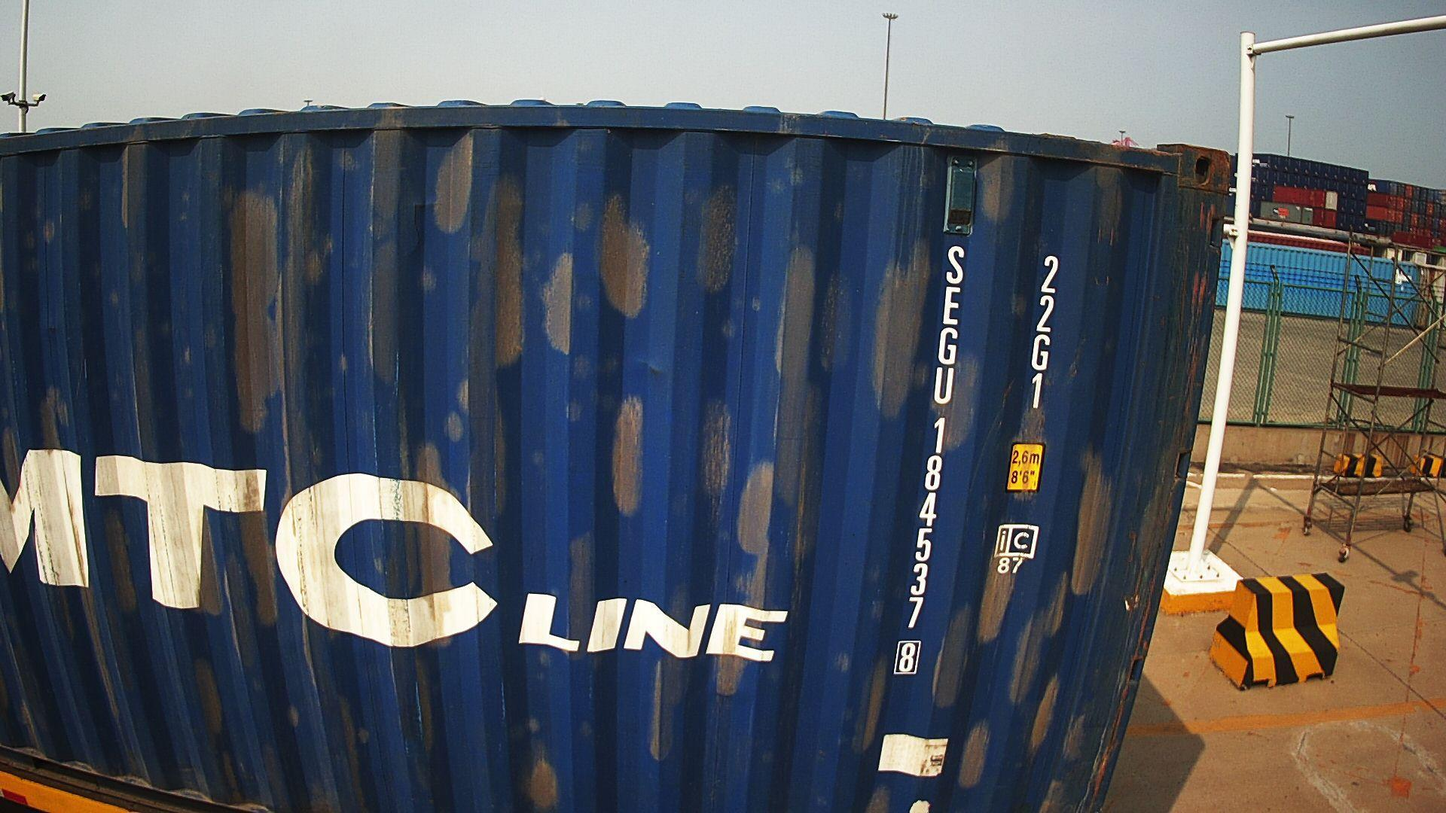container-numbers: (891, 242, 969, 683), (1023, 249, 1064, 422)
